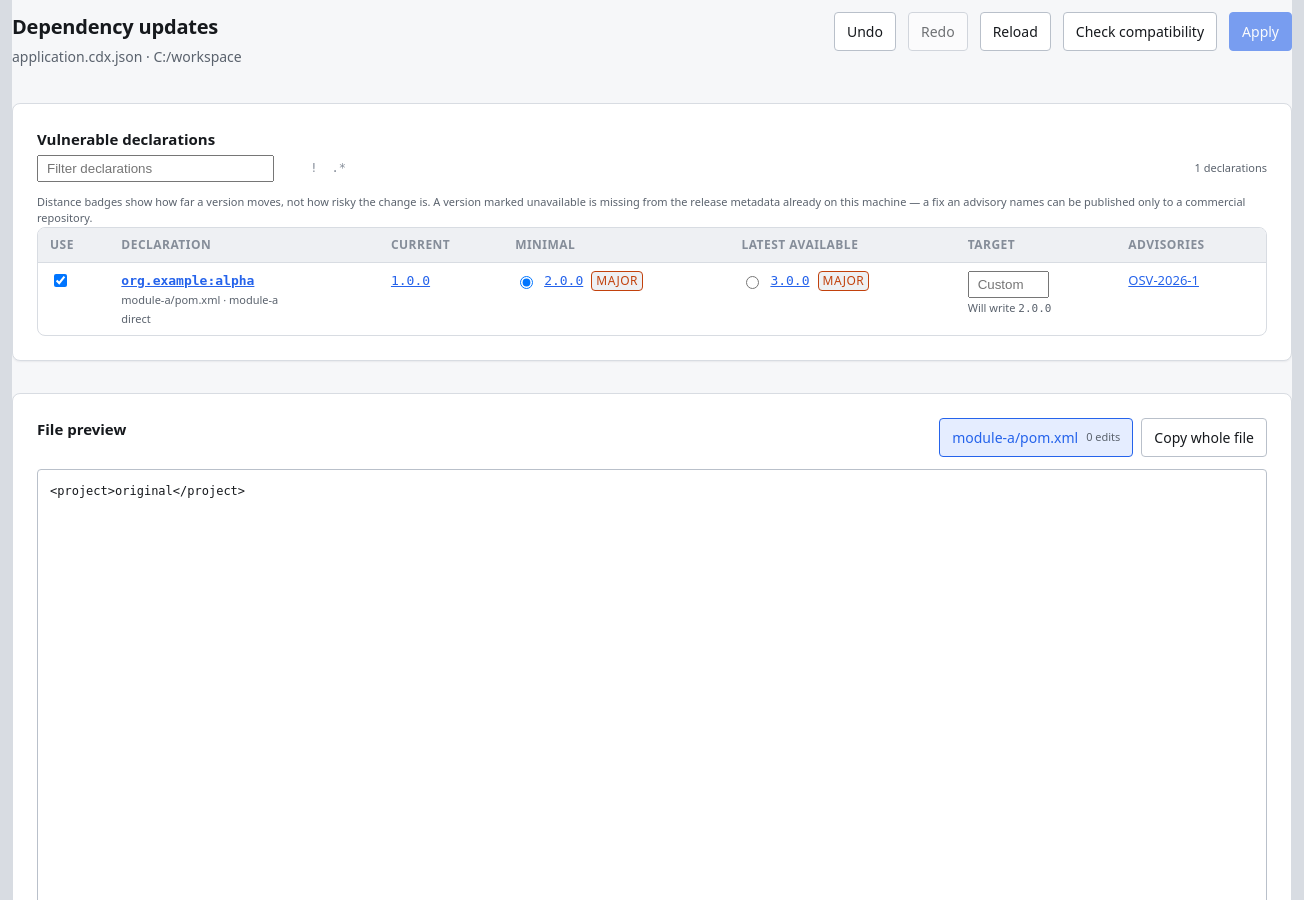
Test: BumpPage › renders an unchecked compatibility result and its notes
The width and height of the screenshot is (1304, 900).
Expected: the checkbox named "Select org.example:alpha" is shown, [54,274,67,286]
Click the button "Check compatibility": x=1140, y=32 [1063,12,1217,51]
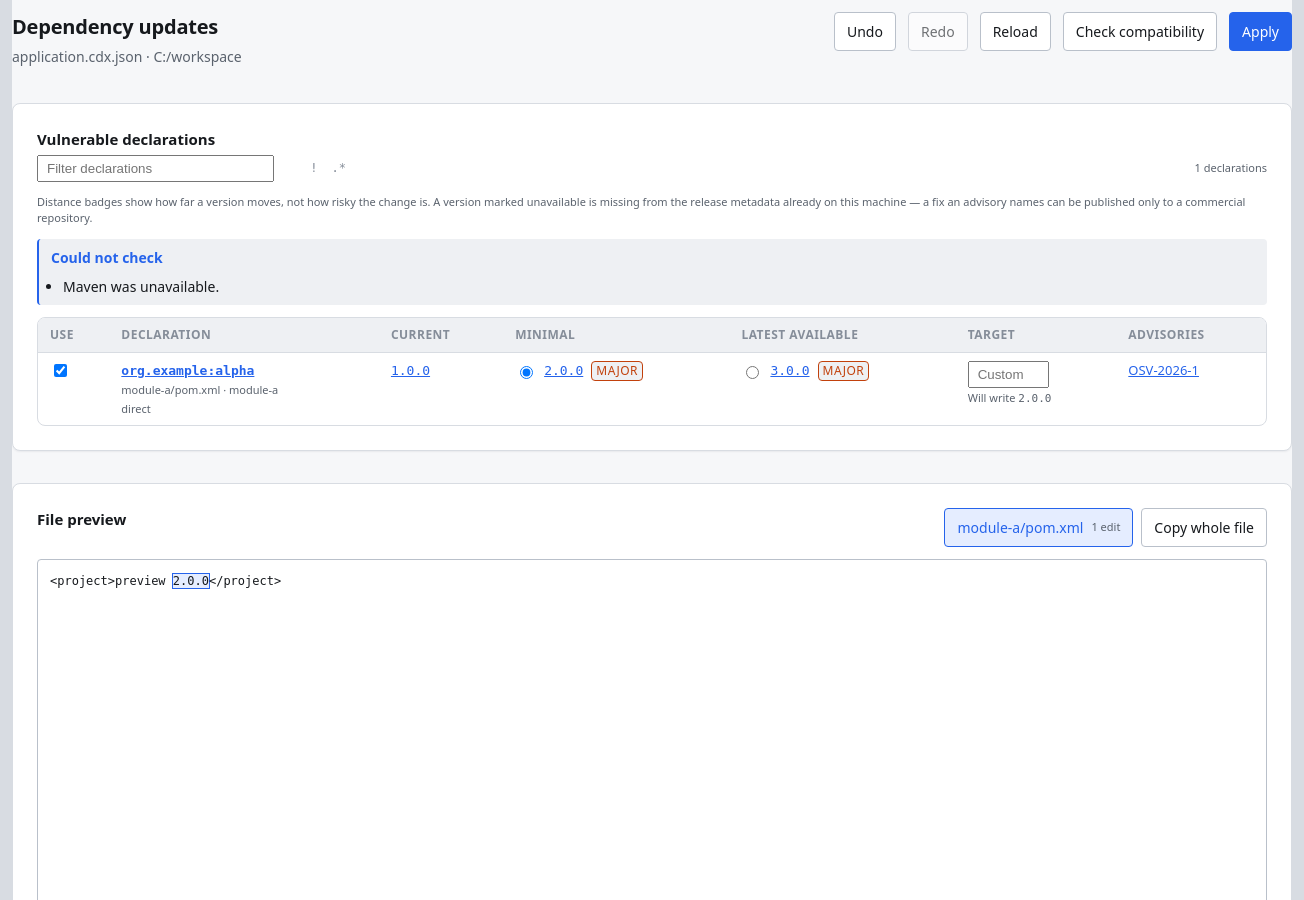
Now the message shows "Could not check", box [51,248,163,266]
Now the message shows "Maven was unavailable.", box [63,276,219,296]
